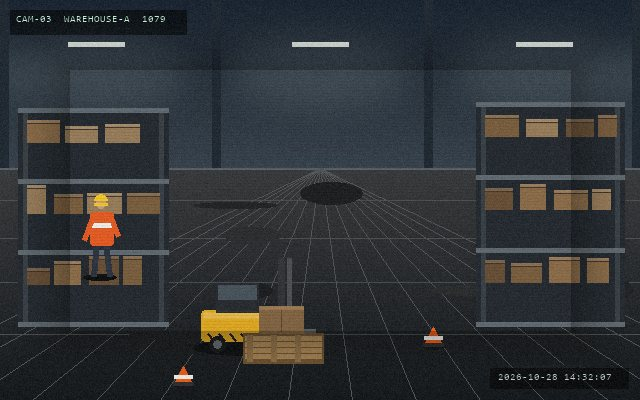cone: (422, 325, 444, 349), (172, 364, 194, 388)
forklift: (197, 256, 317, 355)
pallet: (241, 331, 325, 365)
person: (83, 192, 120, 279)
shelf: (476, 102, 624, 322), (18, 108, 168, 322)
